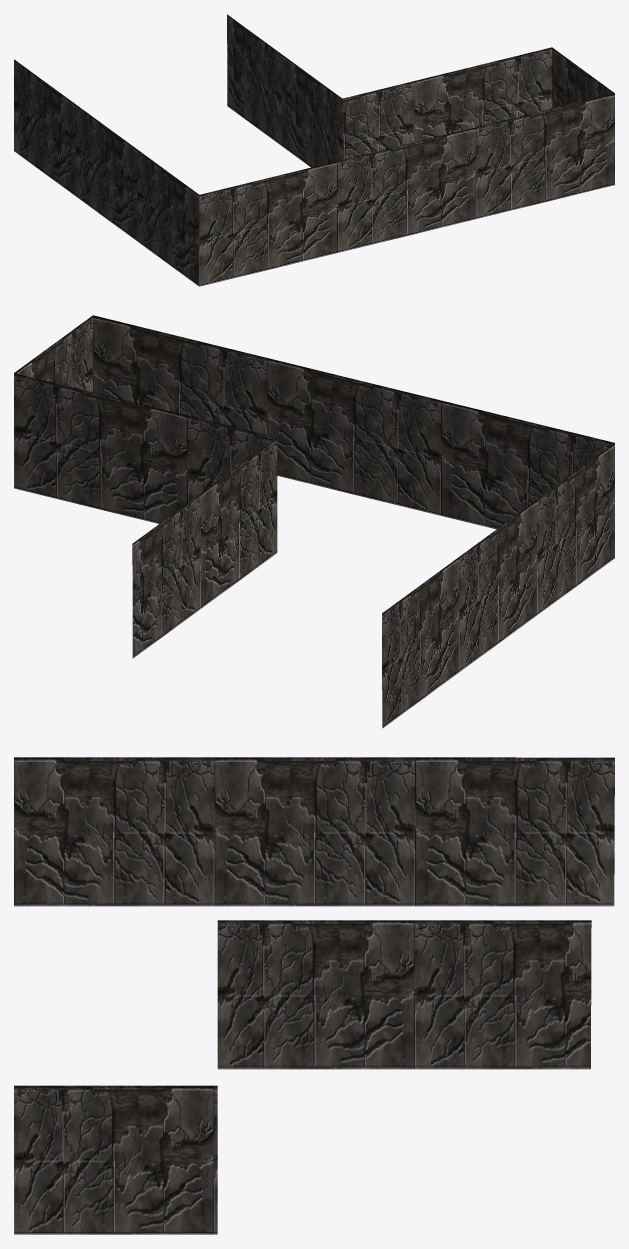
Rendered from CH09_SMAUG_PLAYSURFACE_LAIR95.fbx.
3 views of the same model, one above another, from view 1: azimuth 30°, elevation 25°; view 2: azimuth 150°, elevation 25°; view 3: azimuth 270°, elevation 25° (orthographic). The views are drawn at different scales.
Parts seen in each view (by area): view 1: CH09_SMAUG_PLAYSURFACE_LAIR95; view 2: CH09_SMAUG_PLAYSURFACE_LAIR95; view 3: CH09_SMAUG_PLAYSURFACE_LAIR95.
Boxes of the visible parts, x1=… form: CH09_SMAUG_PLAYSURFACE_LAIR95: x1=14, y1=14, x2=614, y2=286; CH09_SMAUG_PLAYSURFACE_LAIR95: x1=14, y1=315, x2=614, y2=728; CH09_SMAUG_PLAYSURFACE_LAIR95: x1=14, y1=757, x2=614, y2=1234.
Size of the model in its own units: 318535 by 67531 by 246188.
1 material, 1 textured.
